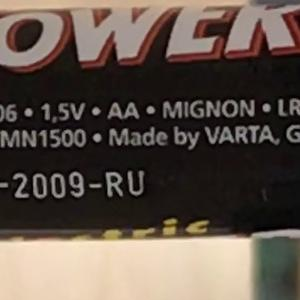keyword: (33, 94, 94, 129)
